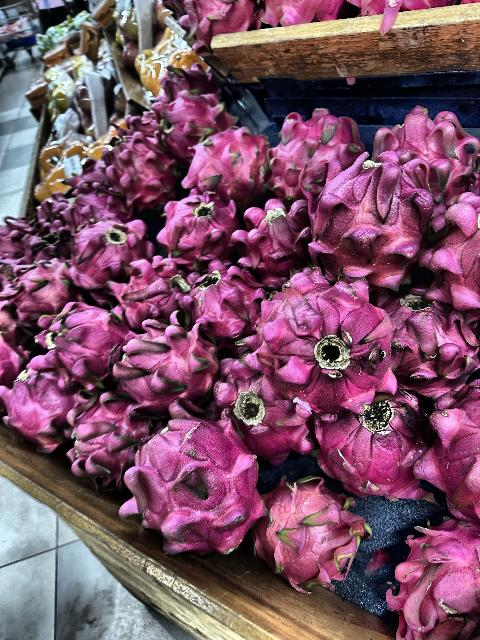buah-naga-matang: (122, 404, 270, 554), (254, 262, 390, 418), (305, 145, 425, 297), (250, 475, 373, 589), (376, 283, 480, 403), (214, 351, 318, 469), (318, 401, 424, 503), (114, 320, 220, 418), (368, 100, 470, 198), (404, 514, 480, 640), (66, 388, 150, 492), (171, 260, 265, 348), (428, 386, 480, 524), (269, 102, 348, 192), (228, 198, 308, 282), (3, 361, 75, 454), (150, 190, 238, 266), (182, 126, 268, 200), (40, 312, 130, 378), (66, 224, 150, 292), (110, 258, 186, 329), (103, 138, 173, 204), (150, 92, 226, 150), (7, 268, 75, 314), (58, 189, 126, 225)
